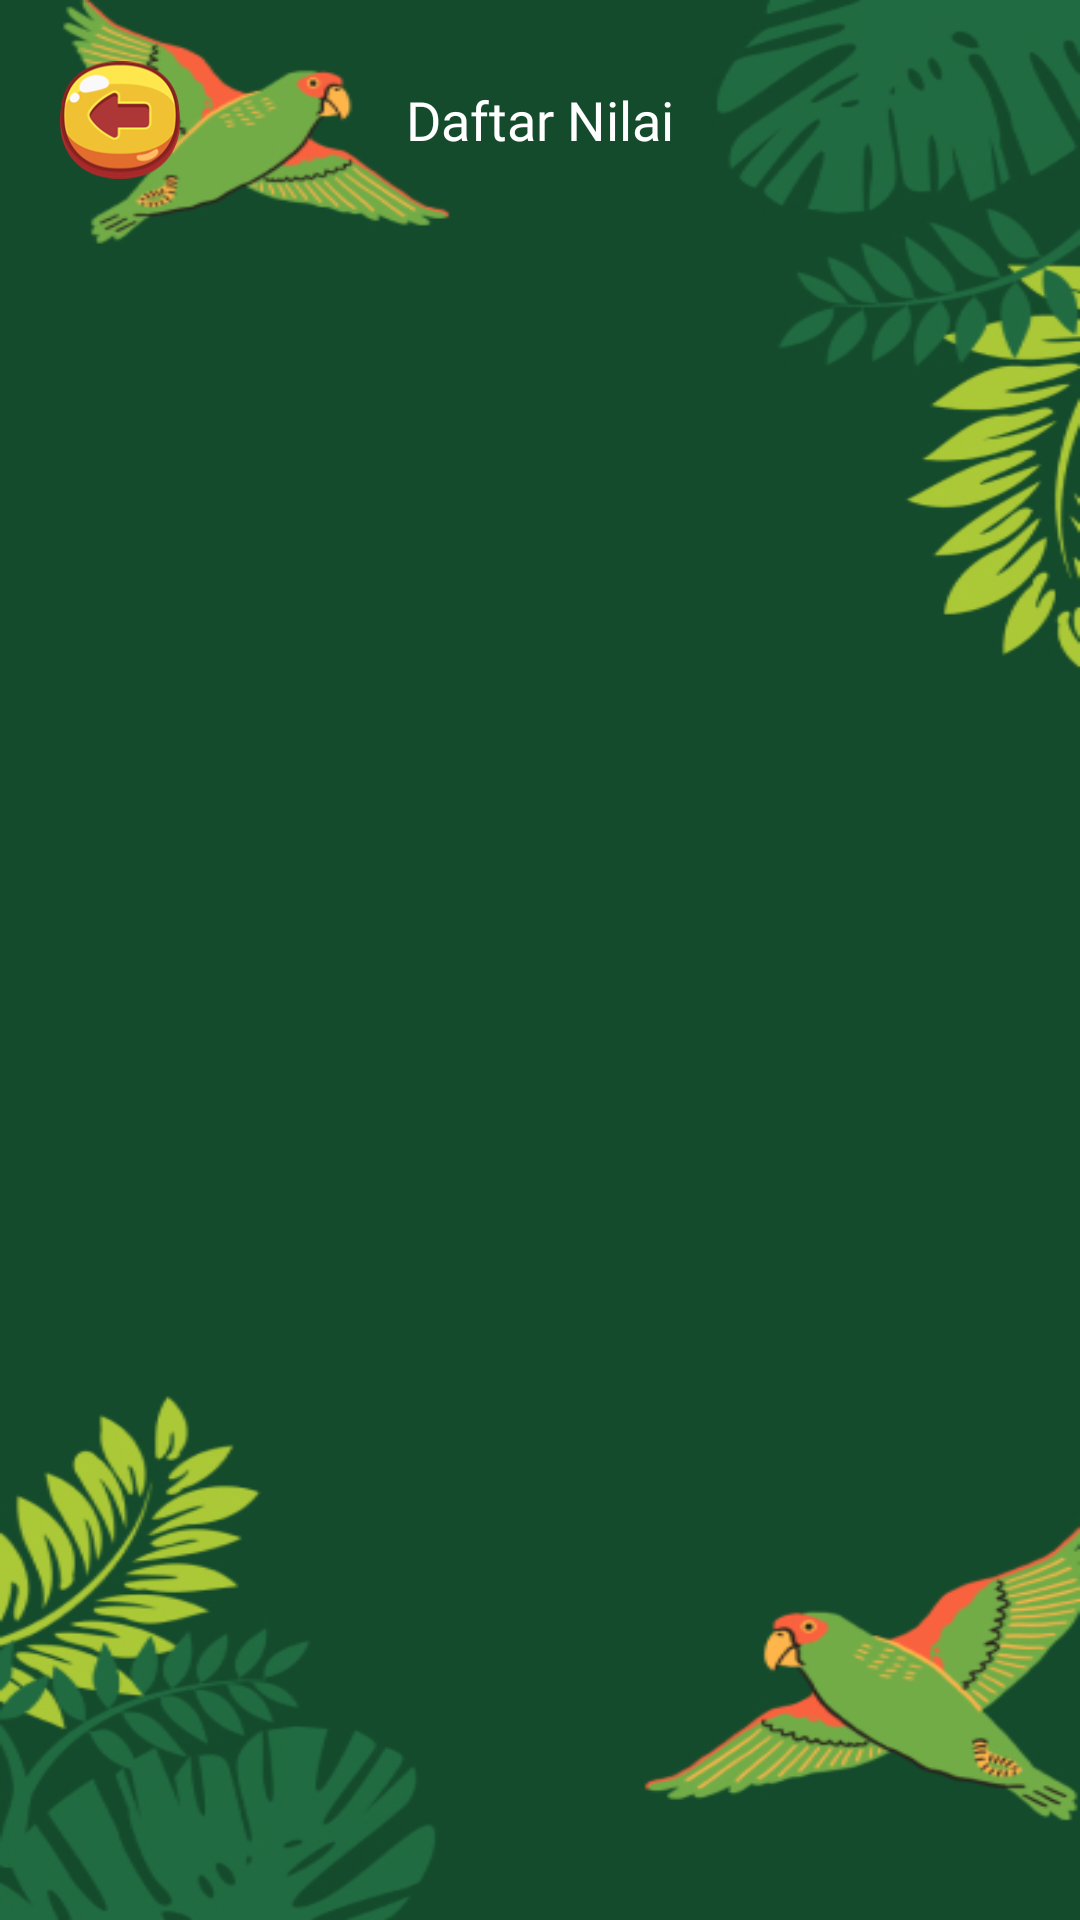

Where to tap for icons on this 1080 x 1920 app screen, as (x,y):
back: (120,120)
